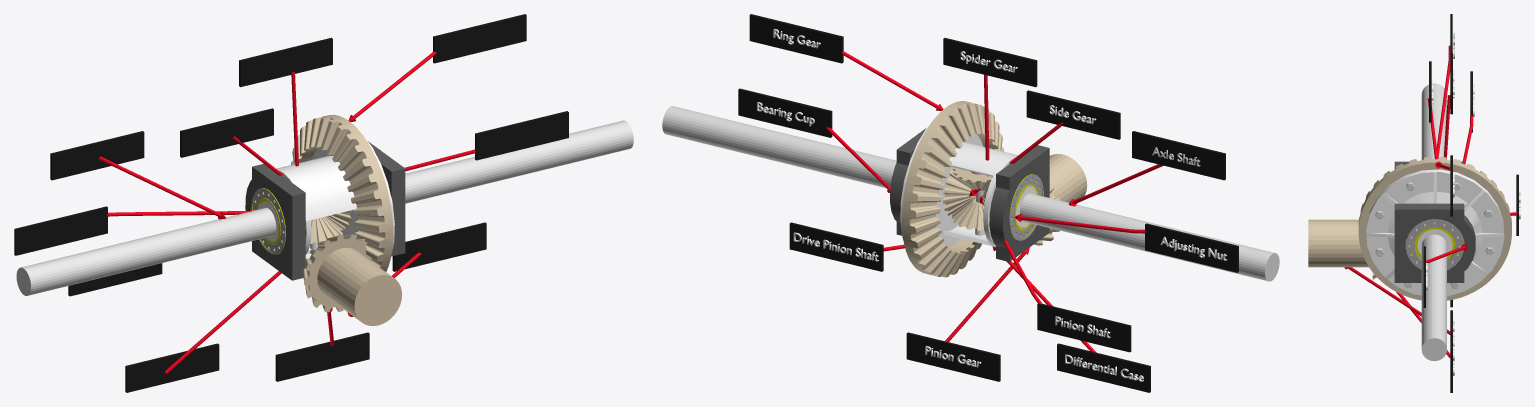
Rendered from Scene 2 anyarfbx.fbx.
3 views of the same model, side by side, from view 1: azimuth 30°, elevation 25°; view 2: azimuth 150°, elevation 25°; view 3: azimuth 270°, elevation 25° (orthographic). The views are drawn at different scales.
Parts seen in each view (by area): view 1: 1, Cylinder.001, Cylinder.002, Cylinder, Cube.004, Cube.005, Cube.008, Cube.001, Cube.007, Cube.002, Cube.006, Cube (+5 smaller); view 2: 1, Cylinder.002, Cylinder.001, Cube.006, Cube.002, Cube.007, Cube.004, Cube.003, Cube.001, Cube.005, Cube.008, Cube.009 (+3 smaller); view 3: 1, Cylinder.002, Cylinder, Cylinder.001, Cone.009, Cone.008, Cone.004.
Part boxes in pixels (x1,y1,x2,y2): 1: [245, 114, 405, 312]; Cylinder.001: [16, 207, 276, 295]; Cylinder.002: [405, 120, 633, 203]; Cylinder: [317, 247, 402, 325]; Cube.004: [275, 332, 369, 381]; Cube.005: [475, 111, 568, 160]; Cube.008: [14, 206, 107, 255]; Cube.001: [239, 37, 332, 87]; Cube.007: [433, 14, 526, 63]; Cube.002: [180, 108, 273, 157]; Cube.006: [50, 131, 144, 180]; Cube: [125, 343, 219, 392]; 1: [890, 101, 1060, 277]; Cylinder.002: [662, 106, 896, 187]; Cylinder.001: [1020, 193, 1279, 281]; Cube.006: [1132, 131, 1225, 180]; Cube.002: [1026, 90, 1120, 139]; Cube.007: [749, 14, 843, 63]; Cube.004: [906, 332, 1000, 381]; Cube.003: [1037, 303, 1131, 352]; Cube.001: [943, 38, 1037, 87]; Cube.005: [738, 88, 832, 137]; Cube.008: [1145, 223, 1238, 272]; Cube.009: [789, 222, 883, 271]; 1: [1358, 156, 1511, 300]; Cylinder.002: [1421, 234, 1446, 361]; Cylinder: [1308, 219, 1368, 267]; Cylinder.001: [1421, 83, 1446, 159]; Cone.009: [1437, 45, 1450, 158]; Cone.008: [1344, 267, 1450, 334]; Cone.004: [1444, 95, 1450, 159].
Size of the model in its own units: 34865 by 18214 by 12290.
